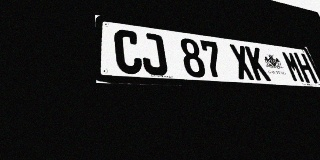7: (199, 40, 227, 79)
8: (179, 37, 207, 78)
C: (114, 29, 143, 75)
H: (293, 52, 318, 83)
J: (139, 32, 169, 76)
K: (244, 46, 271, 81)
M: (281, 51, 306, 83)
X: (228, 44, 256, 80)
